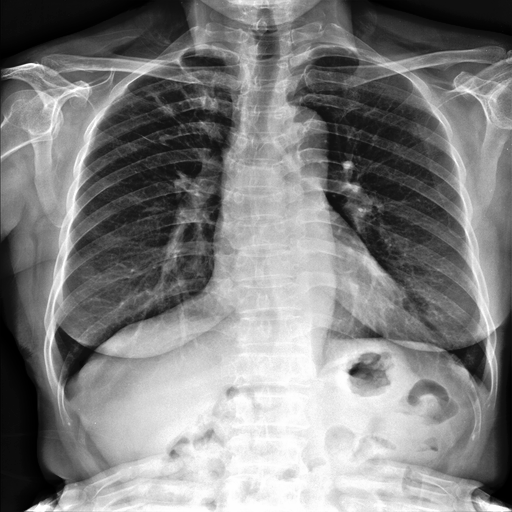Calcification: (49, 369, 84, 395), (471, 371, 495, 403)
Consolidation: (279, 107, 329, 159)
Pleural effusion: (49, 369, 84, 395), (471, 371, 495, 403)
Pneumothorax: (147, 64, 210, 138), (151, 92, 184, 127), (176, 60, 208, 83), (131, 133, 160, 145)
